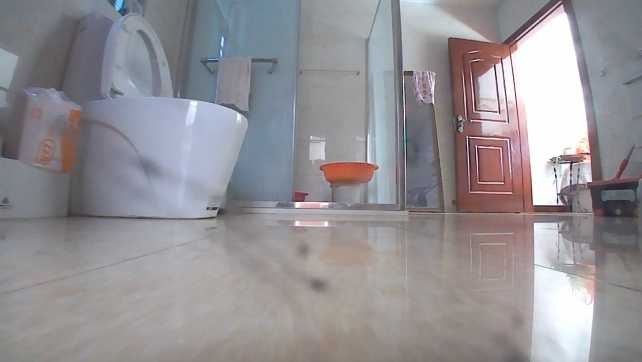door_anno: (445, 35, 534, 215)
toilet: (57, 8, 248, 222)
